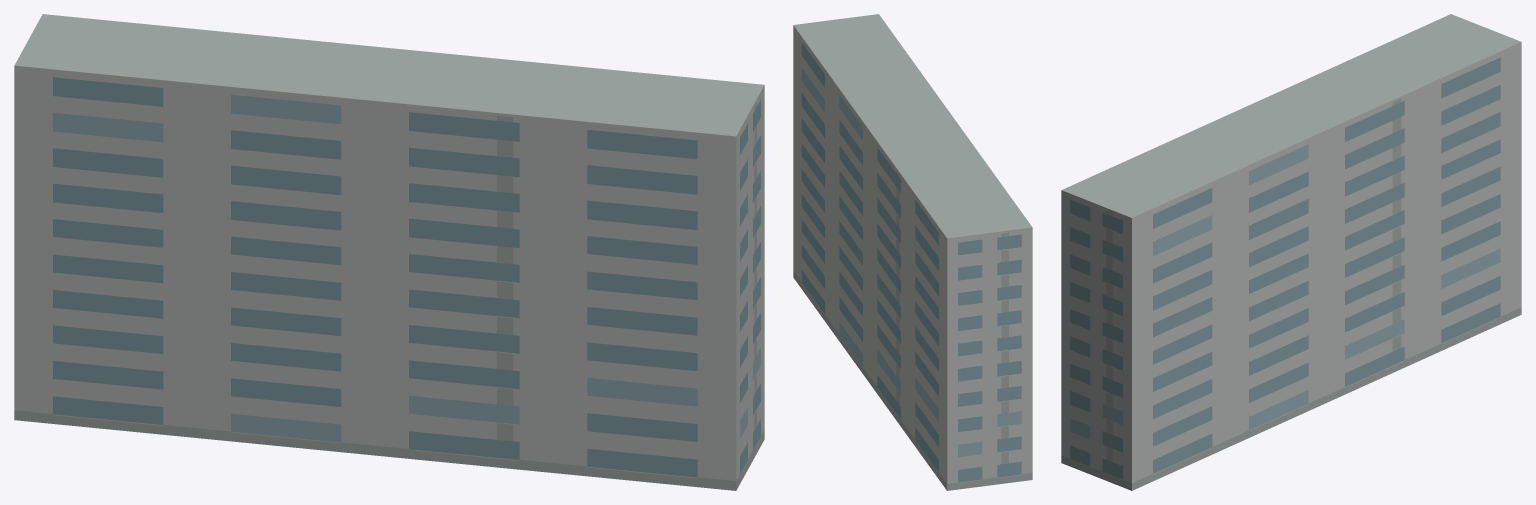
The model's file is residential-935a8a6b-40d4-4a94-a0e3-ee14d8b72ca9.glb.
The picture shows the model from 3 angles, left to right: view 1: azimuth 30°, elevation 25°; view 2: azimuth 150°, elevation 25°; view 3: azimuth 270°, elevation 25°; orthographic projection. The views are drawn at different scales.
Parts seen in each view (by area): view 1: residential-935a8a6b-40d4-4a94-a0e3-ee14d8b72ca9.tmp; view 2: residential-935a8a6b-40d4-4a94-a0e3-ee14d8b72ca9.tmp; view 3: residential-935a8a6b-40d4-4a94-a0e3-ee14d8b72ca9.tmp.
Part boxes in pixels (<box>): residential-935a8a6b-40d4-4a94-a0e3-ee14d8b72ca9.tmp: <box>14,14,764,490</box>; residential-935a8a6b-40d4-4a94-a0e3-ee14d8b72ca9.tmp: <box>793,14,1032,490</box>; residential-935a8a6b-40d4-4a94-a0e3-ee14d8b72ca9.tmp: <box>1061,14,1521,490</box>.
Size of the model in its own units: 44.9 by 28 by 42.79.
